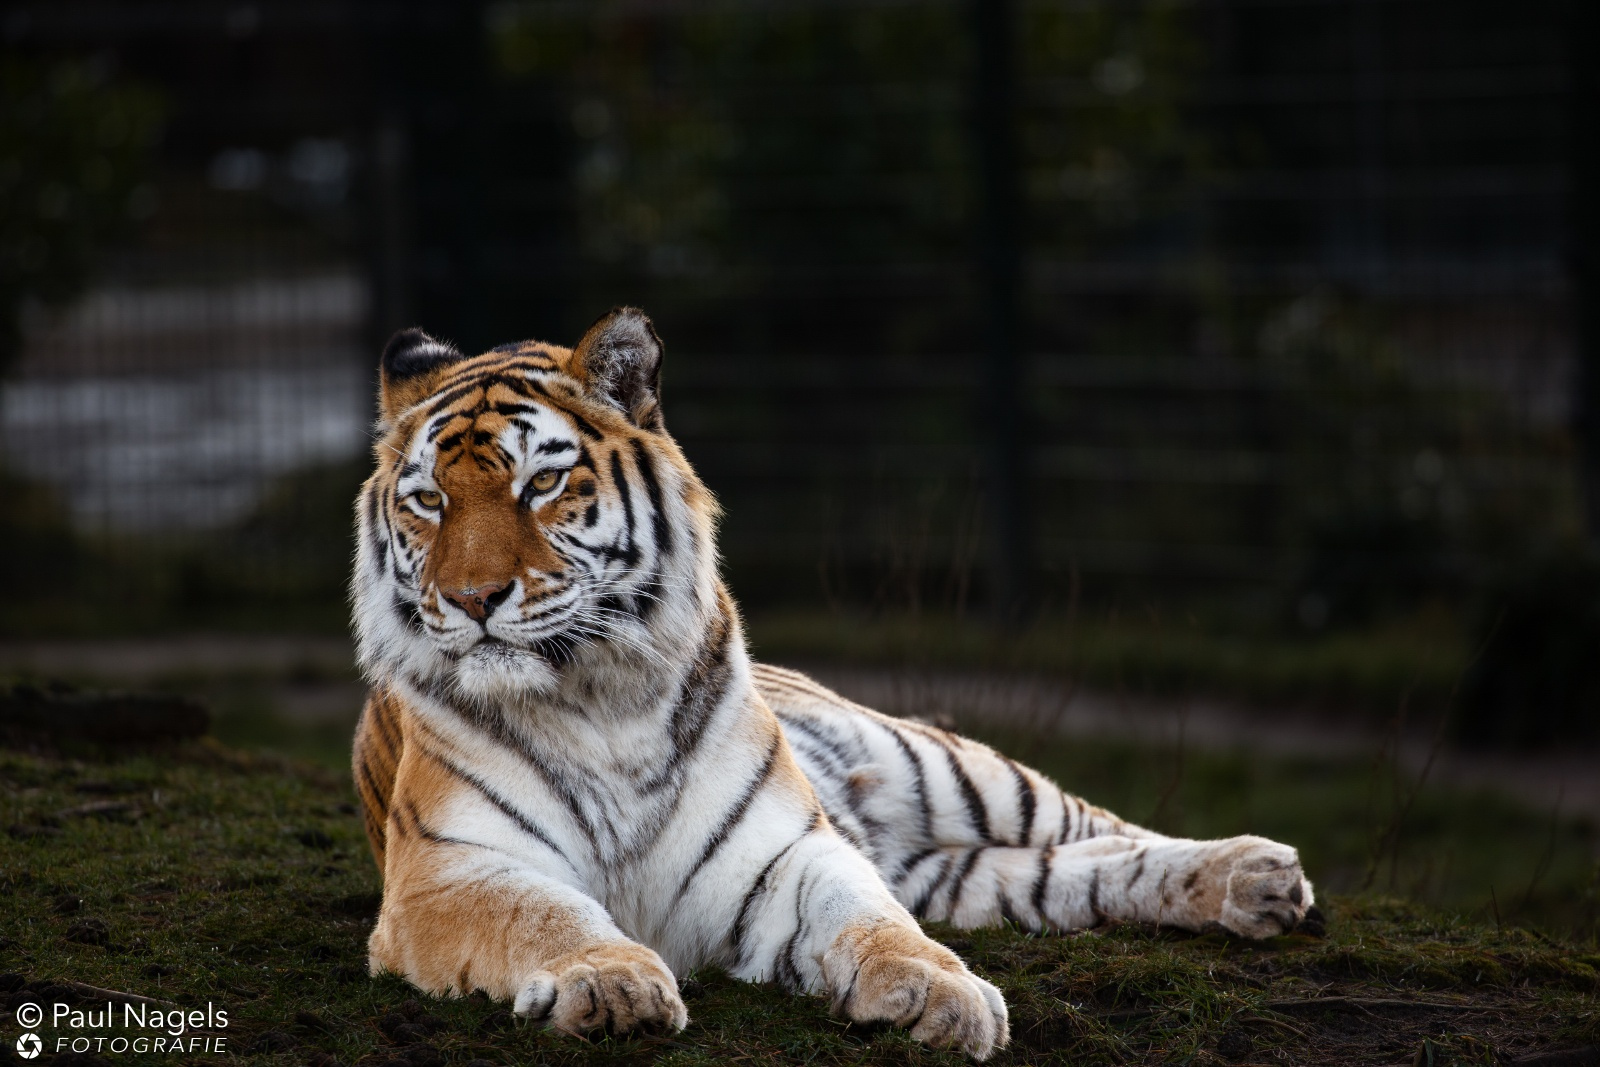tiger: (319, 327, 1354, 1032)
